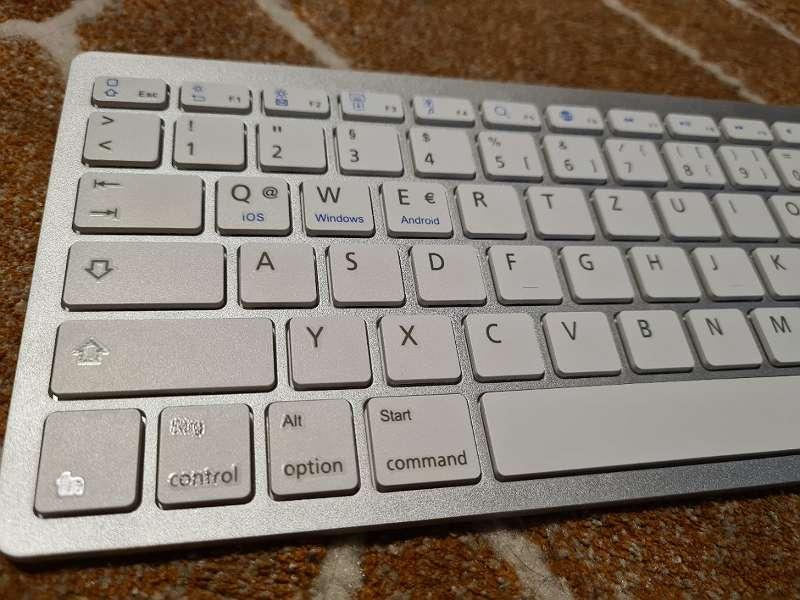0: (772, 147, 797, 189)
1: (171, 112, 246, 165)
2: (254, 116, 327, 169)
3: (333, 121, 403, 172)
4: (409, 124, 475, 174)
5: (476, 128, 542, 177)
6: (543, 132, 606, 179)
7: (607, 136, 668, 181)
8: (666, 139, 725, 182)
9: (719, 143, 780, 185)
a: (233, 238, 319, 306)
alt-left: (261, 398, 361, 497)
b: (617, 305, 695, 371)
c: (462, 308, 546, 380)
d: (408, 239, 487, 304)
e: (380, 177, 455, 235)
f: (487, 241, 563, 303)
g: (558, 241, 635, 300)
h: (628, 241, 701, 298)
i: (717, 189, 779, 237)
j: (693, 242, 764, 296)
k: (753, 242, 798, 294)
keyboard: (3, 44, 797, 567)
less: (81, 111, 161, 164)
m: (753, 302, 798, 362)
n: (687, 305, 762, 366)
o: (769, 191, 799, 237)
q: (212, 172, 295, 235)
r: (455, 180, 528, 235)
s: (324, 239, 406, 306)
shift-left: (45, 315, 282, 395)
shift-lock: (53, 235, 229, 309)
space: (478, 372, 798, 480)
strg-left: (156, 402, 256, 508)
t: (528, 182, 595, 236)
tab: (68, 168, 206, 232)
u: (655, 187, 719, 236)
v: (542, 307, 622, 374)
w: (298, 174, 376, 235)
x: (376, 312, 463, 383)
y: (283, 313, 374, 388)
z: (594, 185, 660, 236)
